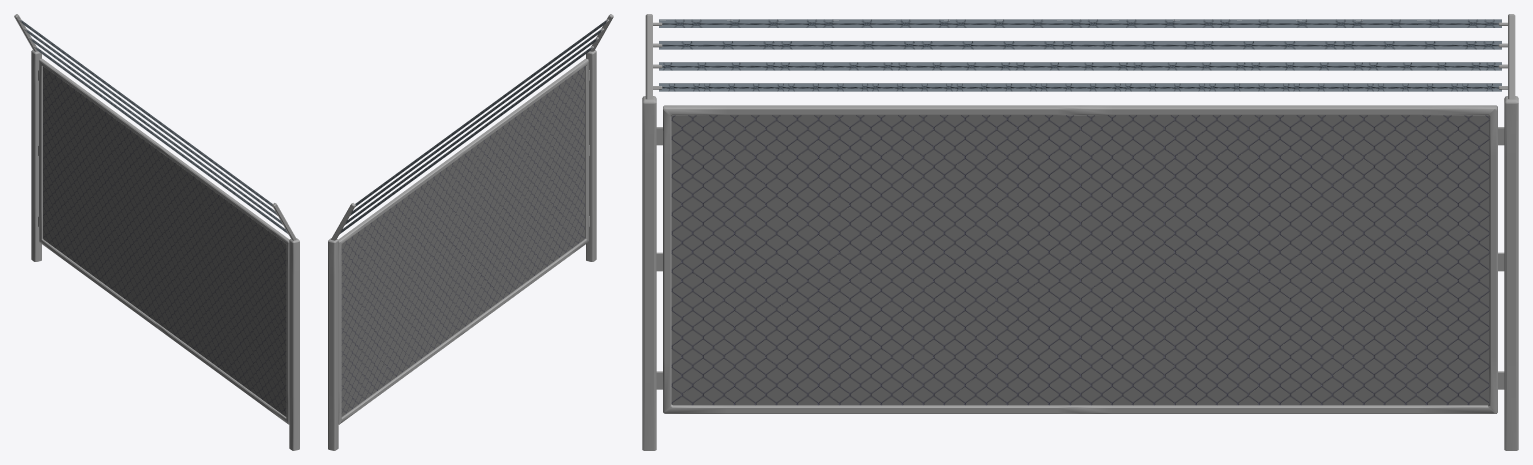
File: Fence01.fbx
3 views of the same model, side by side, from view 1: azimuth 30°, elevation 25°; view 2: azimuth 150°, elevation 25°; view 3: azimuth 270°, elevation 25° (orthographic). The views are drawn at different scales.
Visible parts, largest first — view 1: Fence01; view 2: Fence01; view 3: Fence01.
Boxes of the visible parts, <box> form: Fence01: <box>14,14,299,450</box>; Fence01: <box>328,14,613,450</box>; Fence01: <box>642,14,1518,450</box>.
Size of the model in its own units: 0.181 by 1.69 by 3.22.
